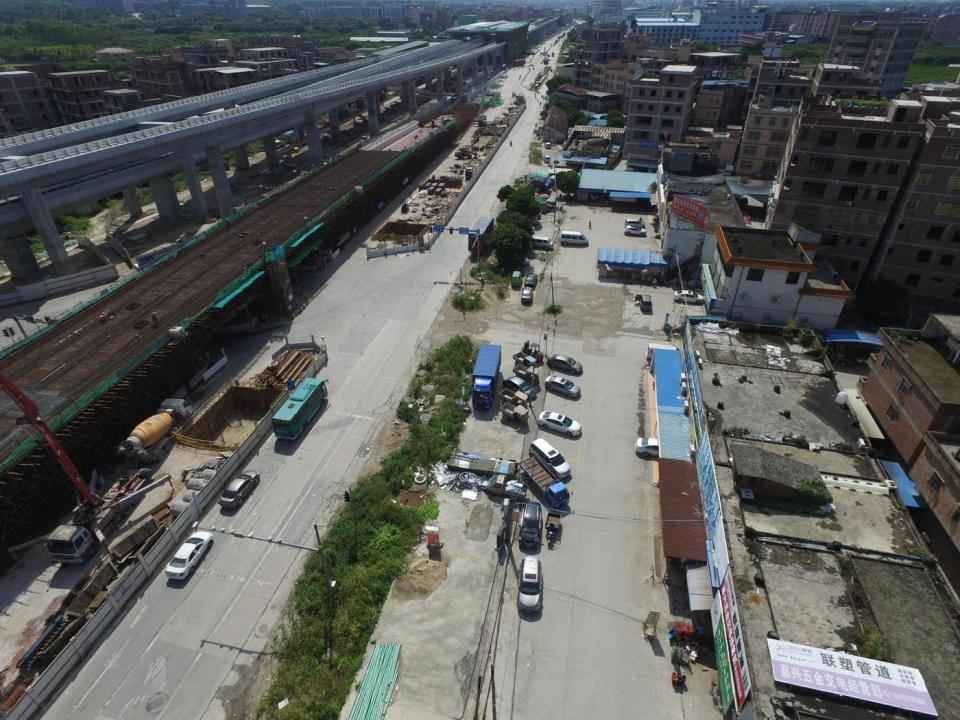bus: (273, 378, 326, 441)
car: (166, 532, 210, 580), (517, 557, 542, 614), (218, 473, 258, 508), (540, 411, 582, 436), (518, 502, 541, 547), (635, 437, 675, 460), (546, 376, 581, 398), (501, 376, 536, 398), (548, 354, 581, 374), (674, 290, 704, 306), (624, 226, 647, 238), (512, 251, 530, 265), (522, 288, 533, 302), (543, 155, 549, 162), (544, 142, 550, 148)
truck: (519, 456, 570, 508), (472, 344, 500, 412), (486, 474, 528, 500), (468, 217, 494, 252)
van: (529, 437, 571, 480), (560, 231, 588, 247), (635, 294, 653, 312), (530, 236, 553, 249), (623, 218, 646, 229), (510, 271, 522, 287)
